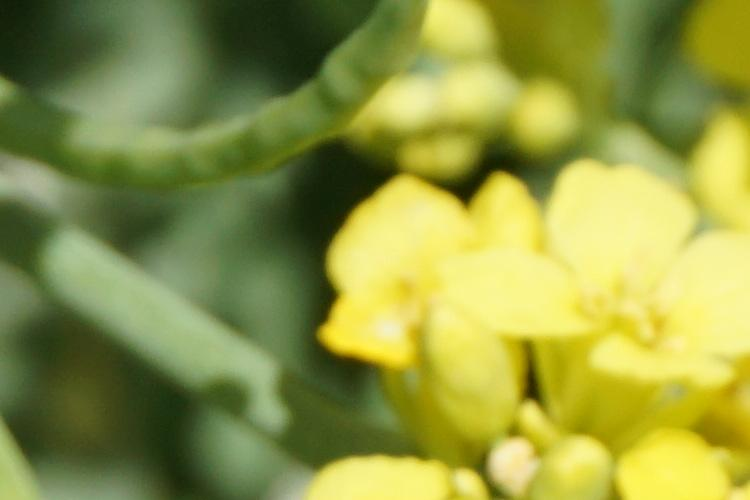yellow: (488, 149, 748, 432), (333, 171, 549, 443)
